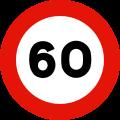Speed Limit -60-: (25, 36, 95, 82)
